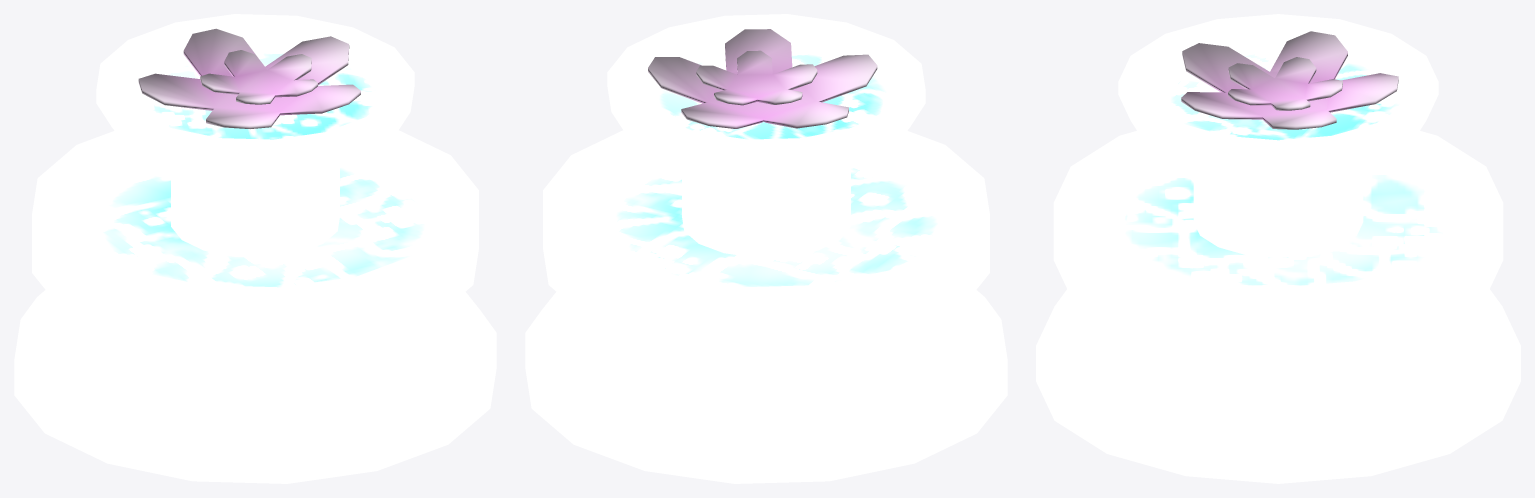
Rendered from cutepack2023fountain 1.fbx.
The picture shows the model from 3 angles, left to right: view 1: azimuth 30°, elevation 25°; view 2: azimuth 150°, elevation 25°; view 3: azimuth 270°, elevation 25°; orthographic projection.
Parts seen in each view (by area): view 1: Cylinder, Cylinder.004; view 2: Cylinder, Cylinder.004; view 3: Cylinder, Cylinder.004.
Part boxes in pixels (x1,y1,x2,y2): Cylinder: [14, 14, 496, 483]; Cylinder.004: [138, 28, 360, 128]; Cylinder: [525, 14, 1007, 483]; Cylinder.004: [648, 29, 877, 128]; Cylinder: [1036, 14, 1520, 483]; Cylinder.004: [1181, 31, 1398, 129].
Bounding box in the file's own units: 401 × 279 × 401.
